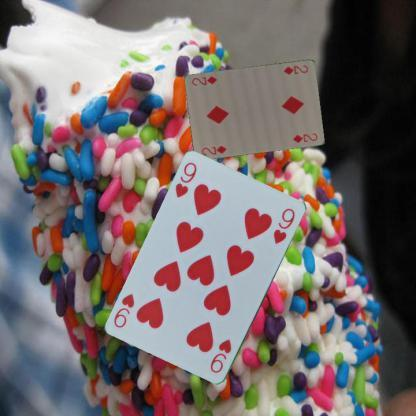2d: (281, 62, 310, 76), (199, 142, 228, 156)
9h: (207, 336, 233, 376), (173, 159, 198, 200)
